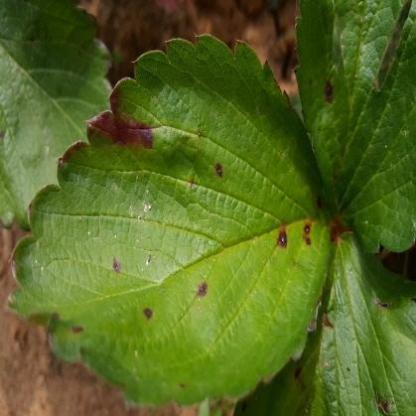Strawberry_Leaf_Spot: (4, 33, 332, 406), (232, 222, 414, 415), (292, 0, 415, 254), (0, 0, 113, 231)
